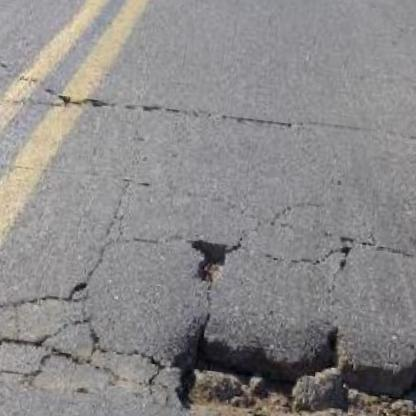pothole: (164, 317, 416, 416), (184, 233, 234, 287)
